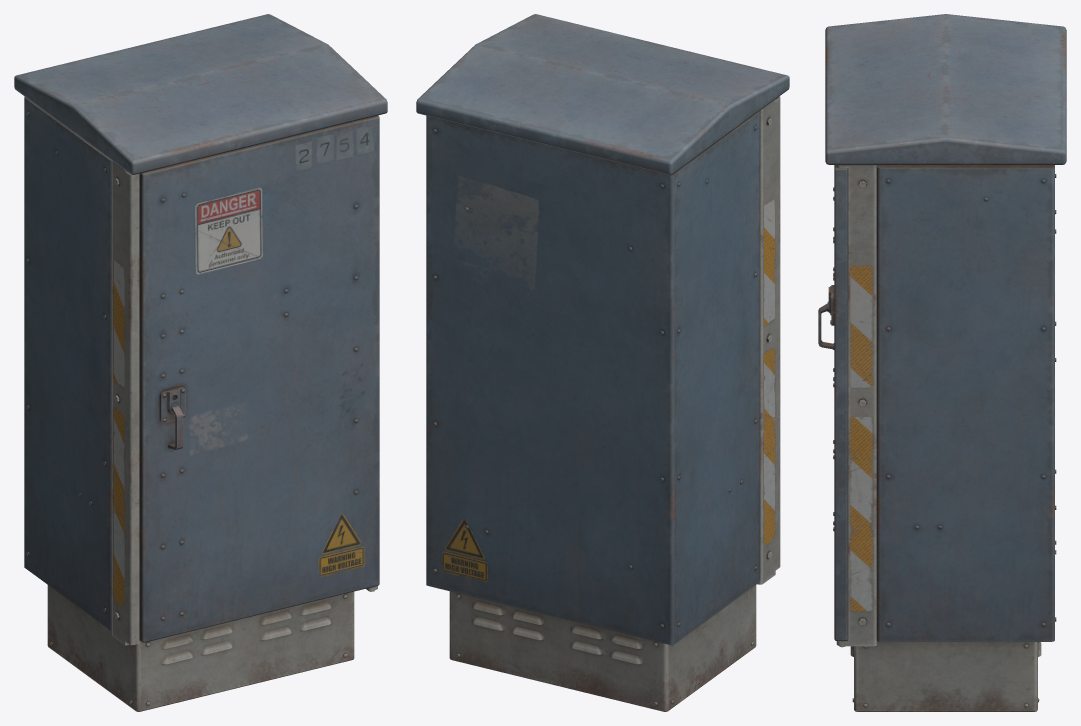
Rendered from utility_box_01_4k.gltf.
3 views of the same model, side by side, from view 1: azimuth 30°, elevation 25°; view 2: azimuth 150°, elevation 25°; view 3: azimuth 270°, elevation 25° (orthographic).
Parts seen in each view (by area): view 1: utility_box_01_box; view 2: utility_box_01_box; view 3: utility_box_01_box.
Part boxes in pixels (x1,y1,x2,y2): utility_box_01_box: (14,14,387,711); utility_box_01_box: (416,14,789,711); utility_box_01_box: (818,14,1066,711).
Size of the model in its own units: 0.52 by 1.12 by 0.432.
